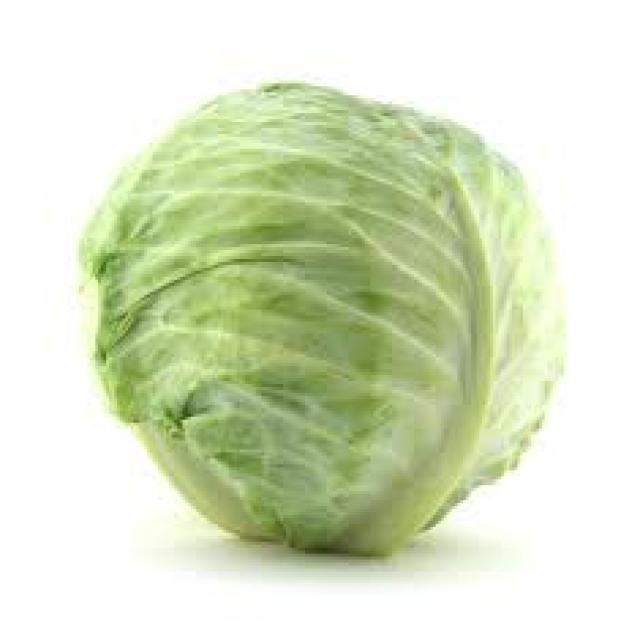Cabbage: (68, 51, 597, 574)
